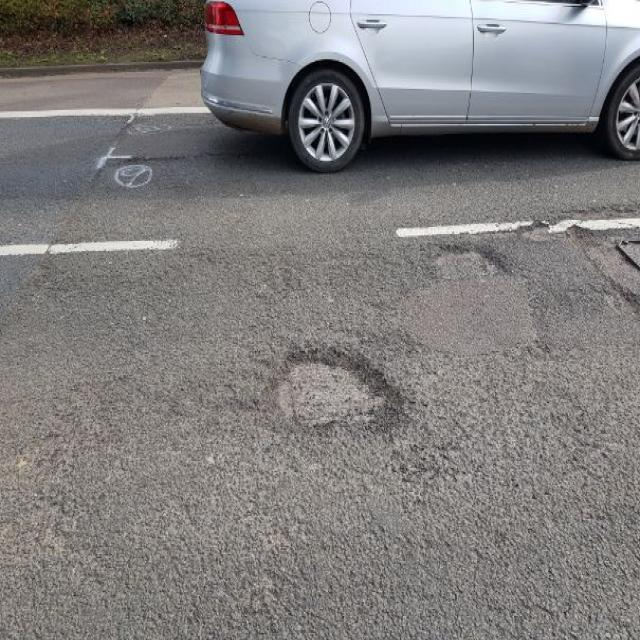pothole: (249, 336, 407, 442), (515, 202, 639, 235), (422, 235, 504, 278)
